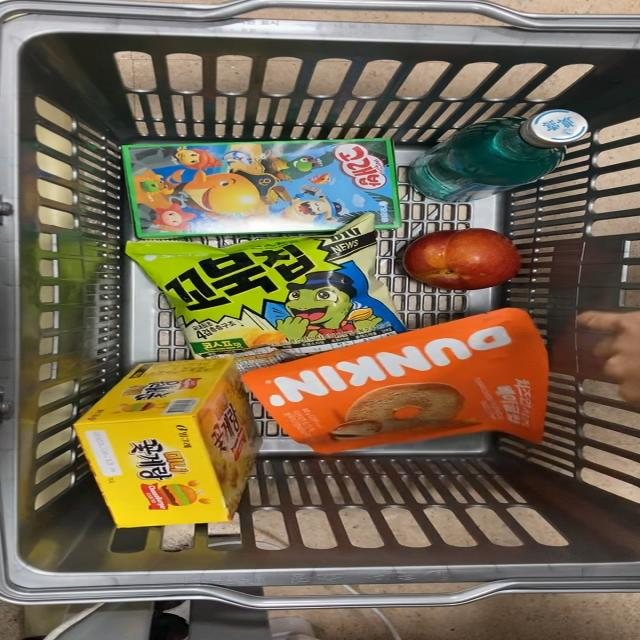cheesebagel: (234, 304, 568, 458)
ggobukchip: (121, 210, 446, 403)
goraebob: (117, 139, 408, 235)
jinro: (408, 87, 616, 213)
minicrab: (61, 358, 267, 532)
plum: (388, 222, 539, 294)
